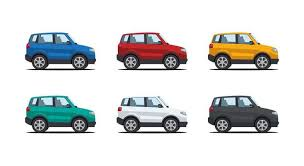car: (24, 94, 102, 136), (25, 30, 103, 71), (115, 94, 193, 134), (118, 31, 190, 73), (207, 93, 284, 132), (210, 32, 286, 67)
